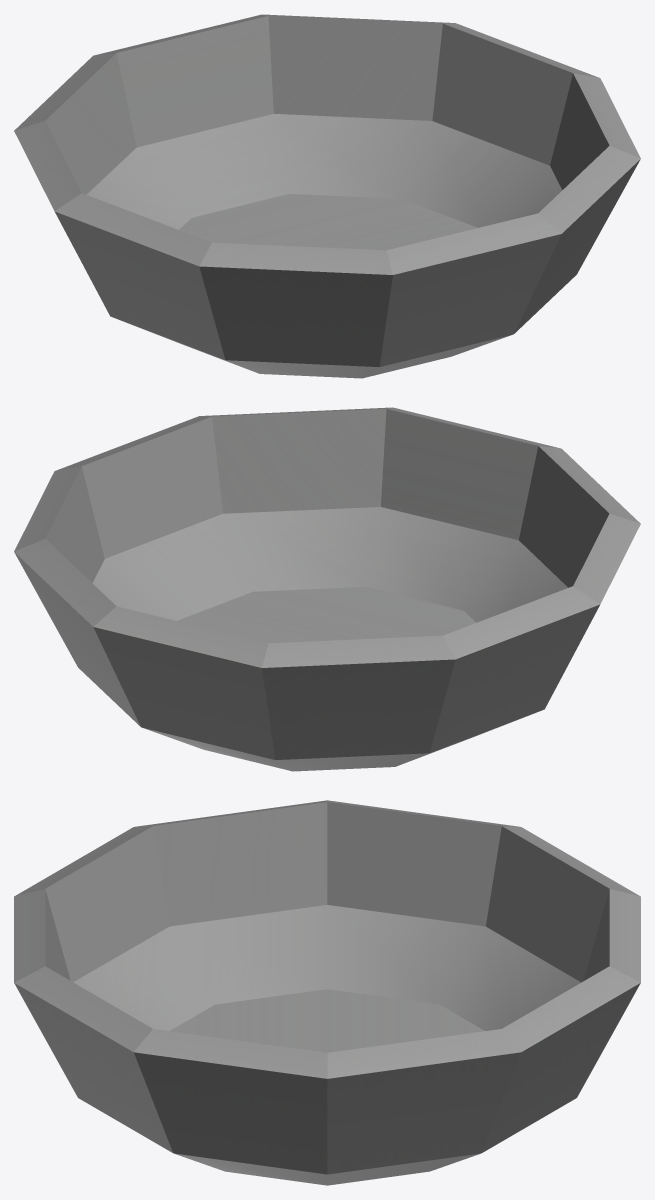
The model's file is BowlSmallEmpty.fbx.
3 renders of one model, top to bottom at view 1: azimuth 30°, elevation 25°; view 2: azimuth 150°, elevation 25°; view 3: azimuth 270°, elevation 25°, orthographic. The views are drawn at different scales.
Visible parts, largest first — view 1: BowlSmallEmpty; view 2: BowlSmallEmpty; view 3: BowlSmallEmpty.
Part boxes in pixels (x1,y1,x2,y2): BowlSmallEmpty: (14, 14, 640, 378); BowlSmallEmpty: (14, 407, 640, 771); BowlSmallEmpty: (14, 800, 640, 1185).
Size of the model in its own units: 0.2749 by 0.0849 by 0.2614.
